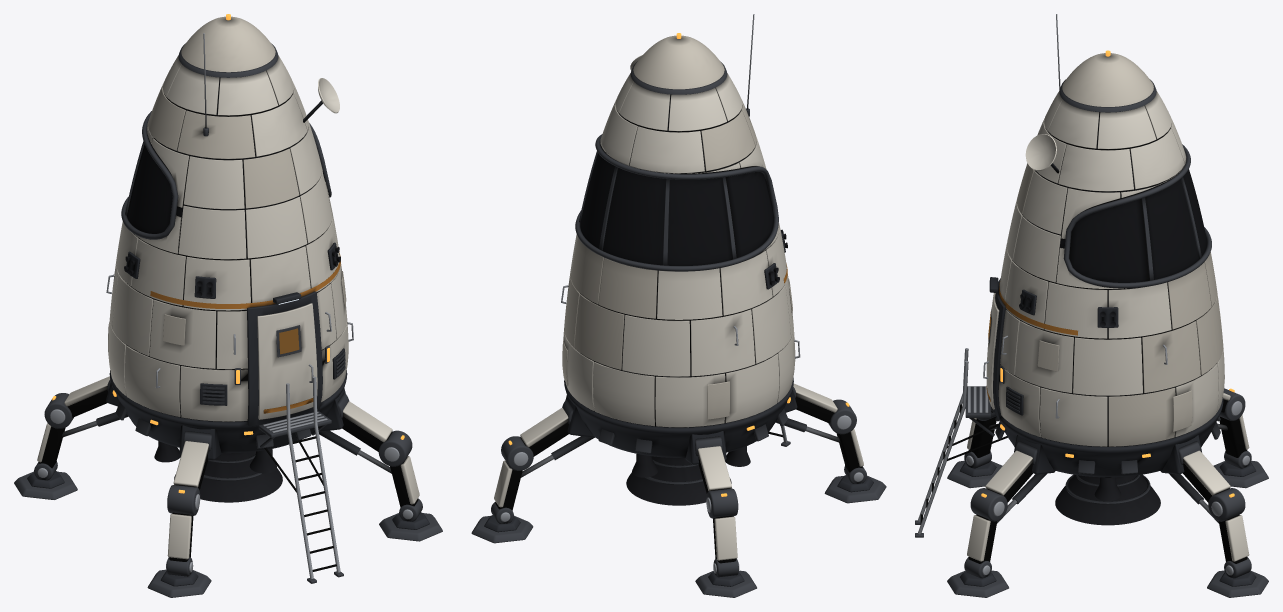
File: rocket.glb
3 renders of one model, left to right at view 1: azimuth 30°, elevation 25°; view 2: azimuth 150°, elevation 25°; view 3: azimuth 270°, elevation 25°, orthographic. The views are drawn at different scales.
Visible parts, largest first — view 1: RocketBody, Hatch; view 2: RocketBody; view 3: RocketBody, Hatch.
Part boxes in pixels (bbox=[...]): RocketBody: bbox=[14, 14, 442, 597]; Hatch: bbox=[257, 303, 317, 419]; RocketBody: bbox=[471, 14, 886, 597]; RocketBody: bbox=[915, 14, 1268, 597]; Hatch: bbox=[983, 293, 999, 409].
Bounding box in the file's own units: 5.78 × 9.75 × 6.36.
